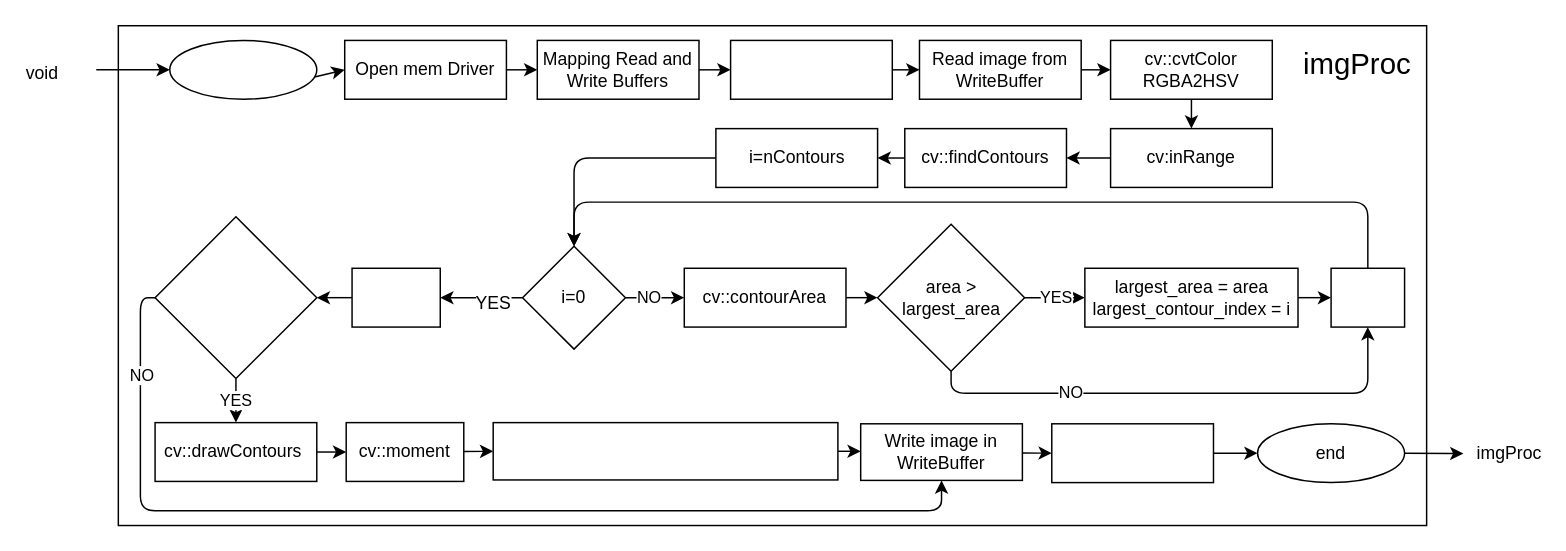
Image size: 1566x551. Some labels were removed from this diagram. Here are the shapes that lost their labels. From the top down, the centre of each, then its label:
the point at 242,69: start
the point at 810,69: Create OpenCV image
the point at 235,297: largest_area > AREA_TSHOLD
the point at 395,297: cX = -1
the point at 1367,297: i--
the point at 665,450: cX = cv::moments.m10 / cv::moments.m00
the point at 1131,452: largest_area = 0
